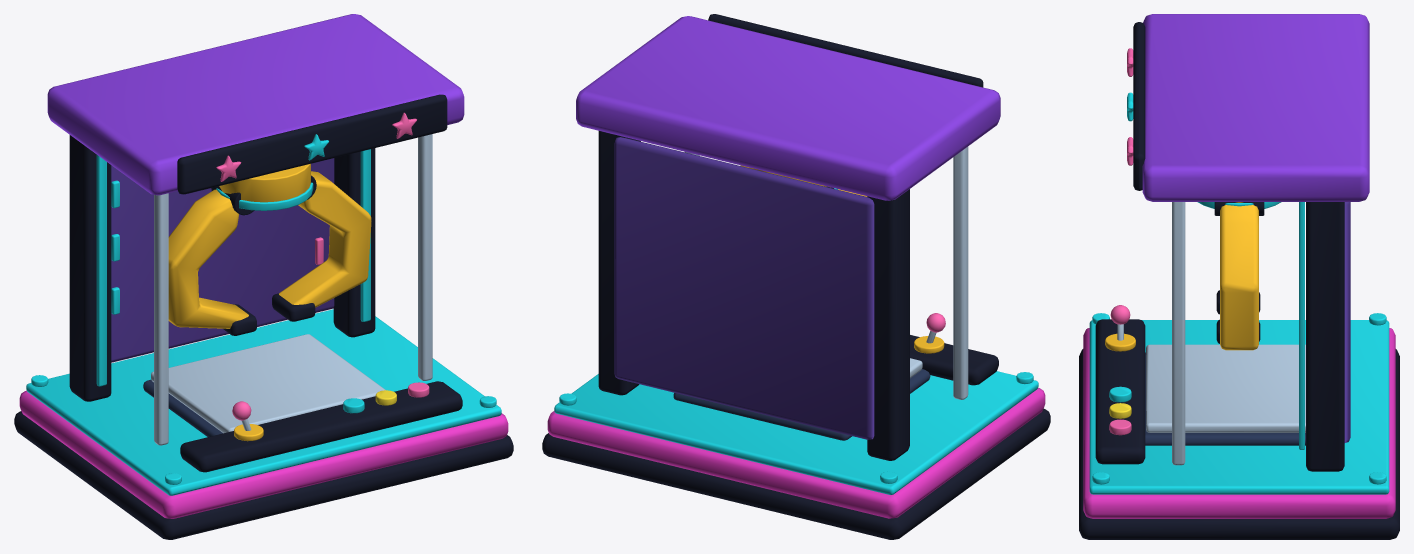
Rendered from ArcadeClaw.fbx.
3 renders of one model, left to right at view 1: azimuth 30°, elevation 25°; view 2: azimuth 150°, elevation 25°; view 3: azimuth 270°, elevation 25°, orthographic. The views are drawn at different scales.
Visible parts, largest first — view 1: Frame, Claw_L, Claw_R, Carriage; view 2: Frame; view 3: Frame, Claw_R.
Part boxes in pixels (bbox=[...]): Frame: bbox=[14, 14, 513, 539]; Claw_L: bbox=[168, 186, 256, 335]; Claw_R: bbox=[272, 171, 371, 321]; Carriage: bbox=[216, 163, 313, 210]; Frame: bbox=[542, 14, 1050, 539]; Frame: bbox=[1079, 14, 1399, 539]; Claw_R: bbox=[1214, 202, 1264, 350].
Bounding box in the file's own units: 7.6 × 7.33 × 5.8.
1 material, 1 textured.
